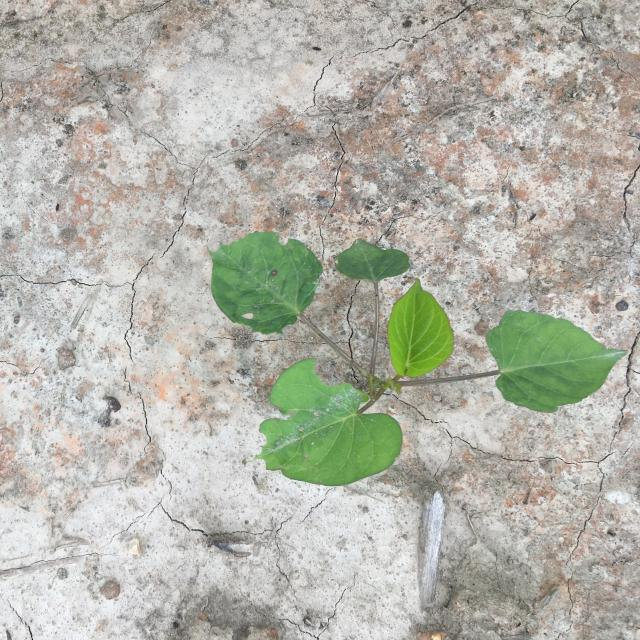MorningGlory: (209, 232, 628, 485)
